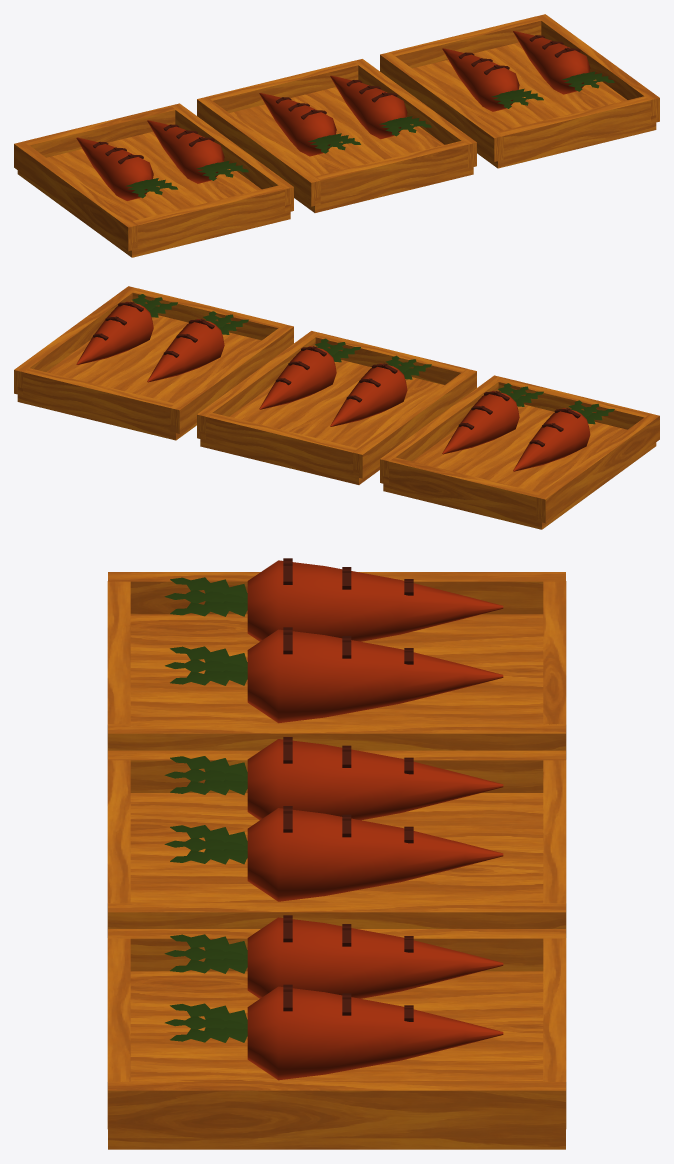
Rendered from pile-roastedCarrot-3.obj.
3 renders of one model, top to bottom at view 1: azimuth 30°, elevation 25°; view 2: azimuth 150°, elevation 25°; view 3: azimuth 270°, elevation 25°, orthographic. The views are drawn at different scales.
Visible parts, largest first — view 1: pile-roastedCarrot-3; view 2: pile-roastedCarrot-3; view 3: pile-roastedCarrot-3.
Boxes of the visible parts, <box> form: pile-roastedCarrot-3: <box>14,14,659,257</box>; pile-roastedCarrot-3: <box>14,286,659,529</box>; pile-roastedCarrot-3: <box>107,558,566,1149</box>.
Bounding box in the file's own units: 0.9008 × 0.0956 × 0.3365.
2 materials, 2 textured.
